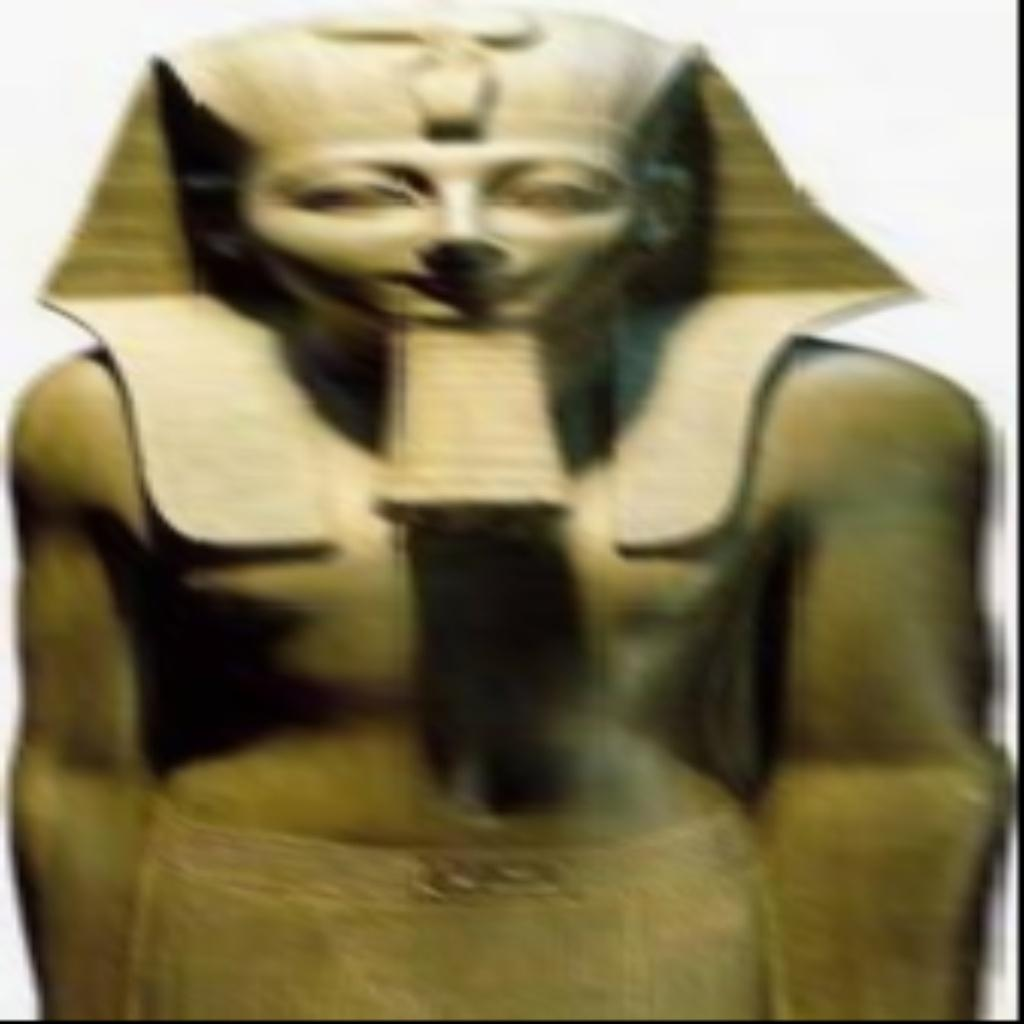King Thutmose III: (6, 0, 1006, 1017)
